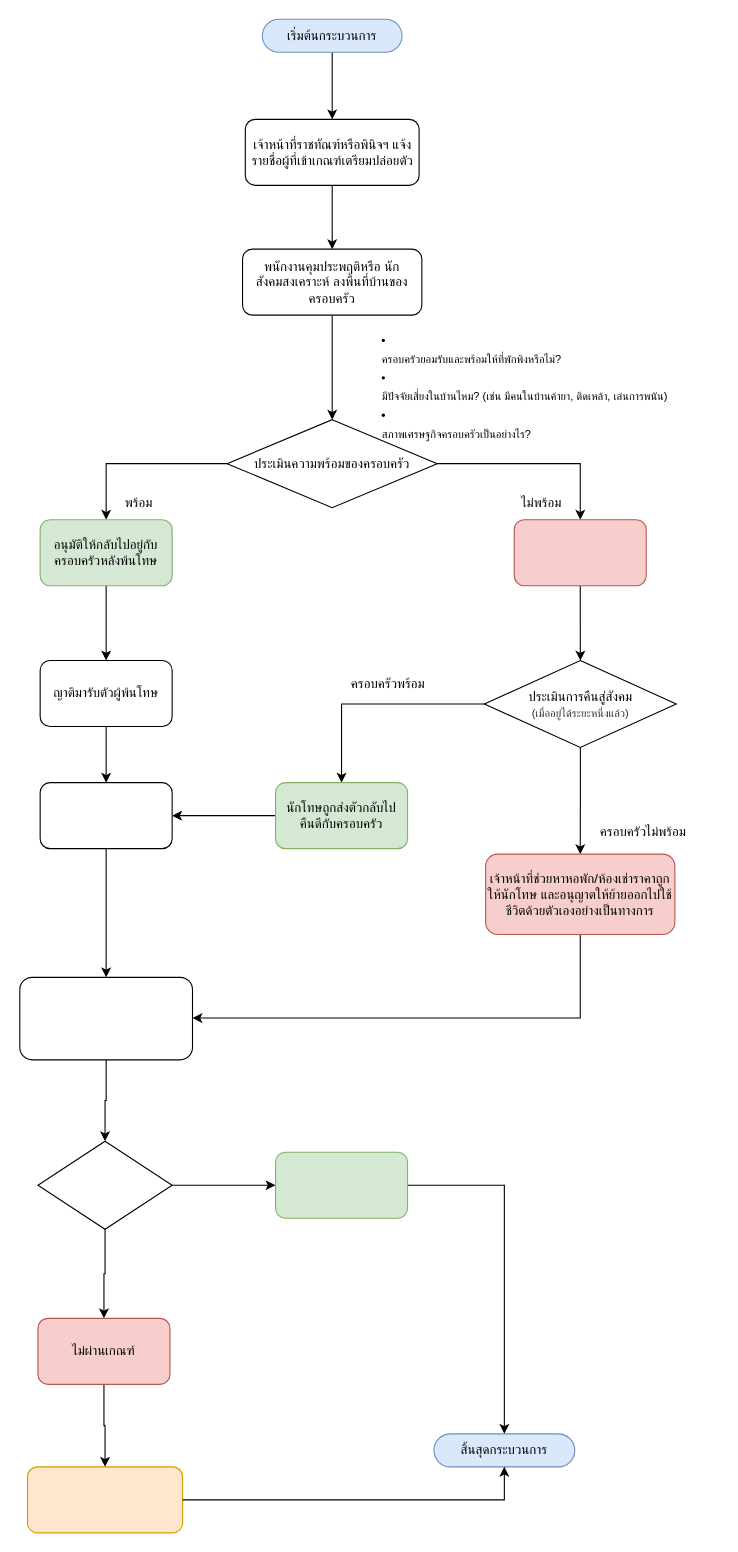
The diagram is 738 pixels wide and 1552 high, and some of its shapes have lost their labels. The centre of each missing label's shape, as x and y in pixels:
ถูกสอดส่องดูแลโดยเจ้าหน้าที่ เจ้าหน้าที่มีการแวะเวียนเพื่อประเมินเป็นครั้งคราว: pixel 106 1018
นักโทษกลับเข้าสู่เรือนจำ: pixel 104 1499
ประเมิน: pixel 104 1184
ผ่านเกณฑ์: pixel 341 1184
ส่งตัวไปพักที่บ้านกึ่งวิถีแทนการให้กลับบ้านเกิด: pixel 579 552
เจ้าหน้าที่ให้คำแนะนำ แก่ครอบครัวถึงวิธีรับมือและดูแลสภาพจิตใจ: pixel 105 815
